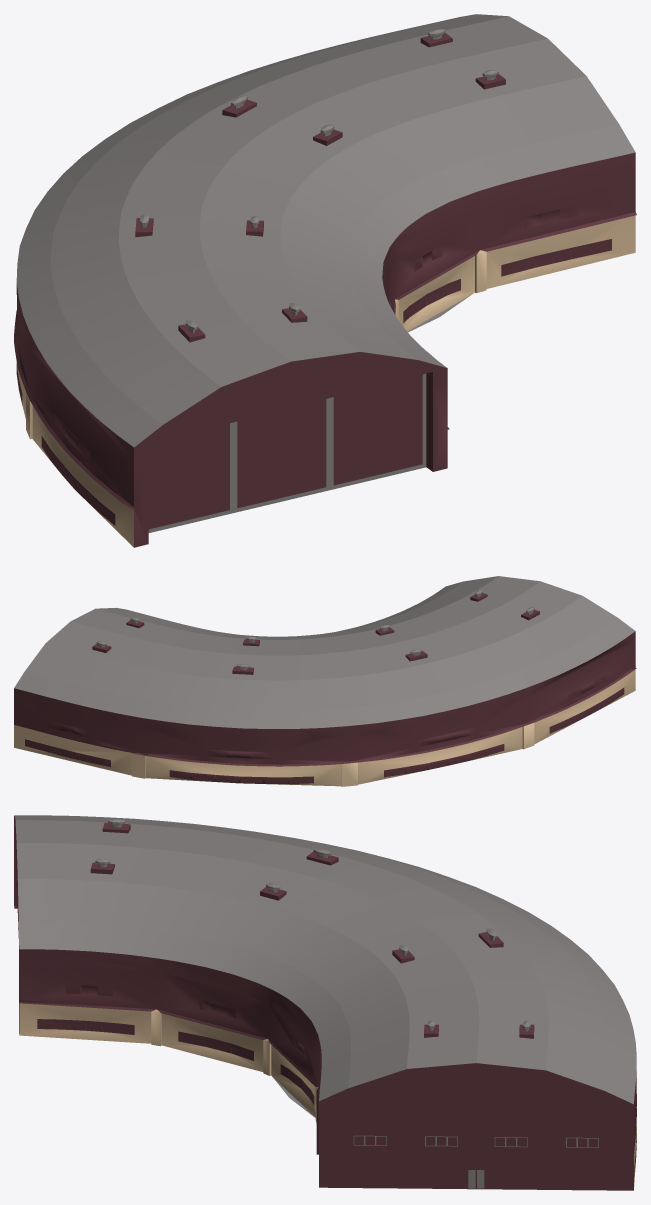
Rendered from bendyHangar.fbx.
3 views of the same model, one above another, from view 1: azimuth 30°, elevation 25°; view 2: azimuth 150°, elevation 25°; view 3: azimuth 270°, elevation 25° (orthographic). The views are drawn at different scales.
Visible parts, largest first — view 1: airport-hangar; view 2: airport-hangar; view 3: airport-hangar.
Part boxes in pixels (bbox=[...]): airport-hangar: bbox=[14, 14, 636, 547]; airport-hangar: bbox=[14, 576, 636, 786]; airport-hangar: bbox=[14, 815, 636, 1190].
Size of the model in its own units: 9346 by 1994 by 8504.
